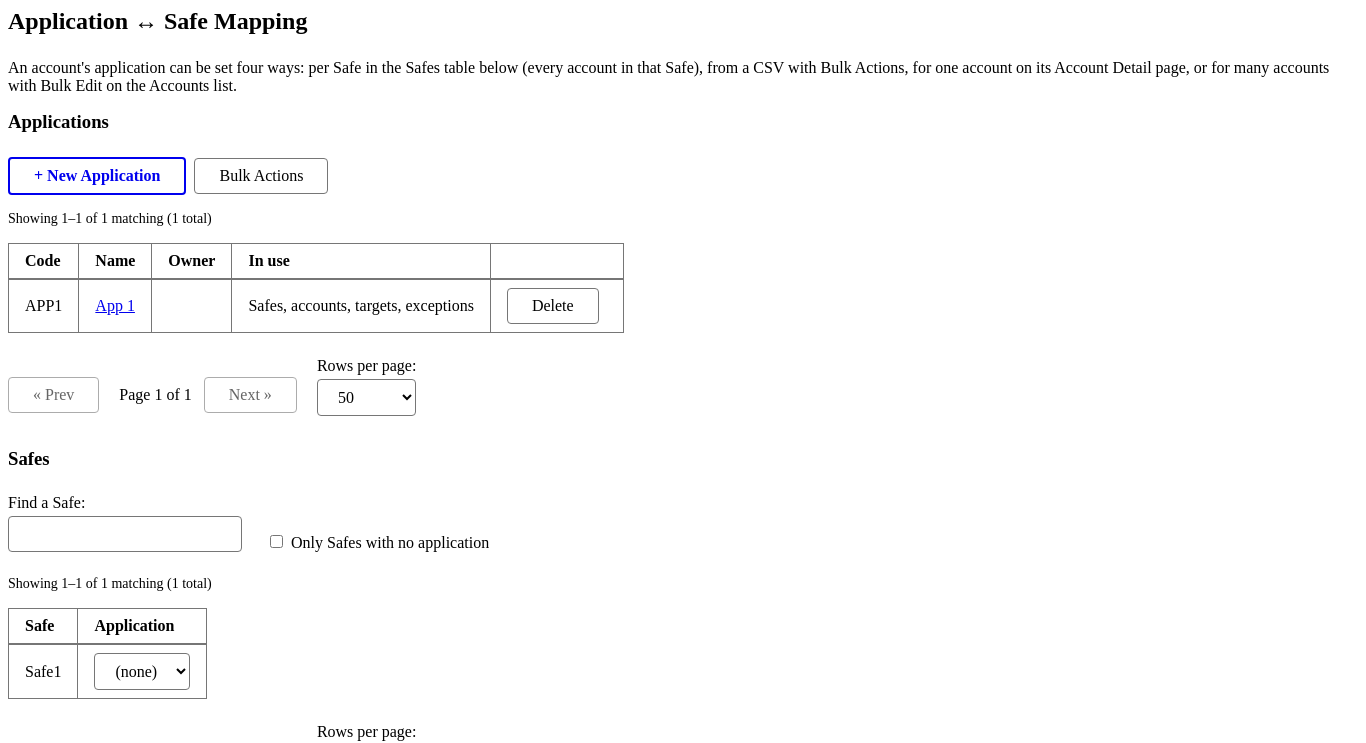
Test: ApplicationSafeMapping.vue › assigning a Safe to an application › says what was assigned, next to the Safes table
Select "App 2" in the dropdown named "Application for safe Safe1": coordinates (142, 672) [94,653,190,690]
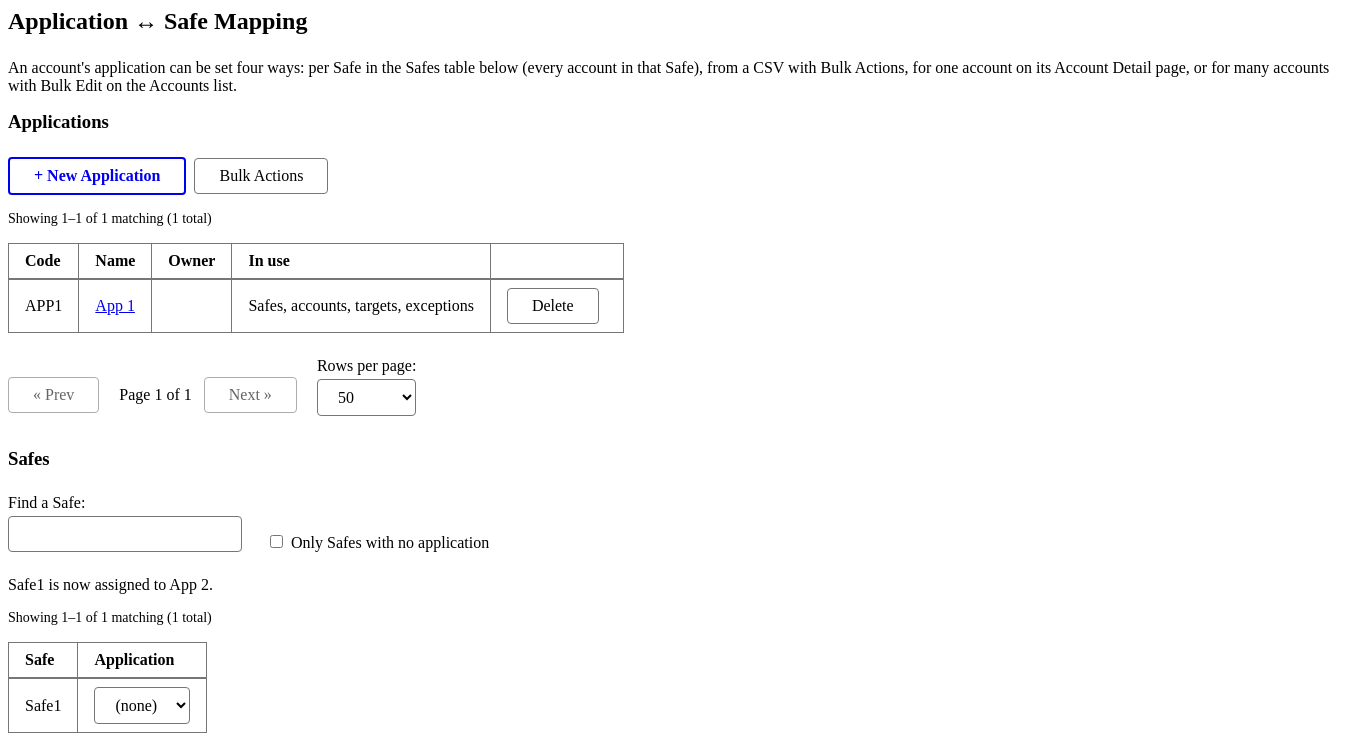
Expected: the message with class "assign-notice" reads "Safe1 is now assigned to App 2.", [8,576,213,593]
